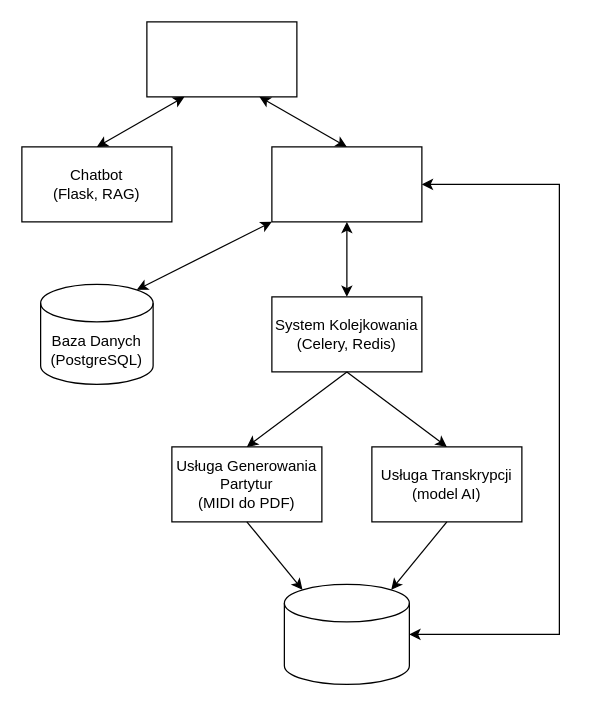
Some shapes in this 593 by 706 pixel diagram are drawn without their labels. Each missing label, with the box of its shape:
Backend (Django, GraphQL): (271, 146, 422, 222)
Frontend (Next,js, TSX): (146, 21, 297, 97)
Przechowywanie Plików: (283, 583, 409, 684)
